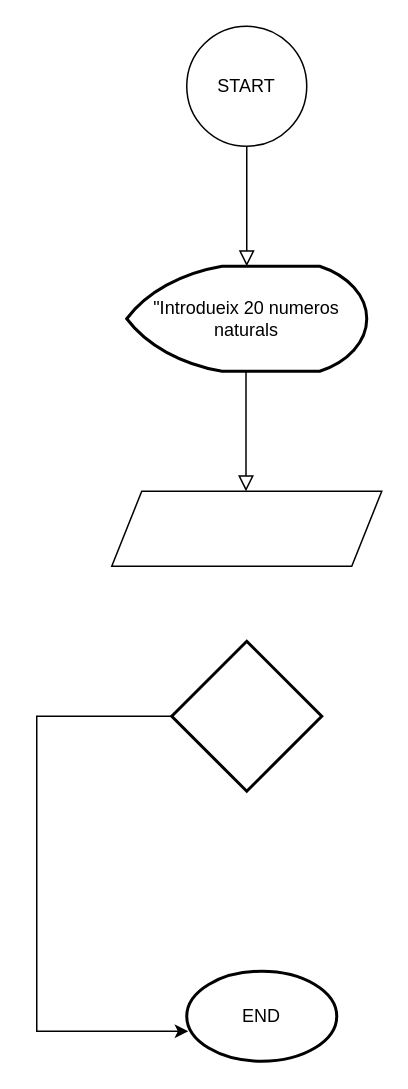
Image size: 408x1089. Some labels were removed from this diagram. The centre of each missing label's shape, as x and y in pixels:
"int inputNum = 0;" belongs at pixel 246 528.
"num == 0?" belongs at pixel 246 715.
